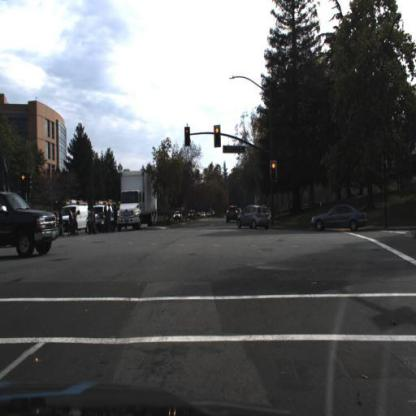car: (1, 188, 60, 271), (118, 168, 159, 233), (312, 199, 372, 233), (60, 196, 91, 237), (236, 203, 272, 236)
pedestrian: (114, 199, 125, 230), (105, 204, 114, 234), (105, 205, 113, 234), (90, 207, 98, 235), (68, 208, 75, 238), (73, 209, 79, 235), (88, 208, 93, 237), (59, 209, 64, 238), (54, 208, 59, 236)
trafficLight-Red: (213, 122, 222, 150), (271, 158, 279, 184)
trafficLight-RedLeft: (19, 170, 30, 195), (184, 123, 193, 146), (21, 172, 28, 192)
truck: (118, 171, 159, 203)
